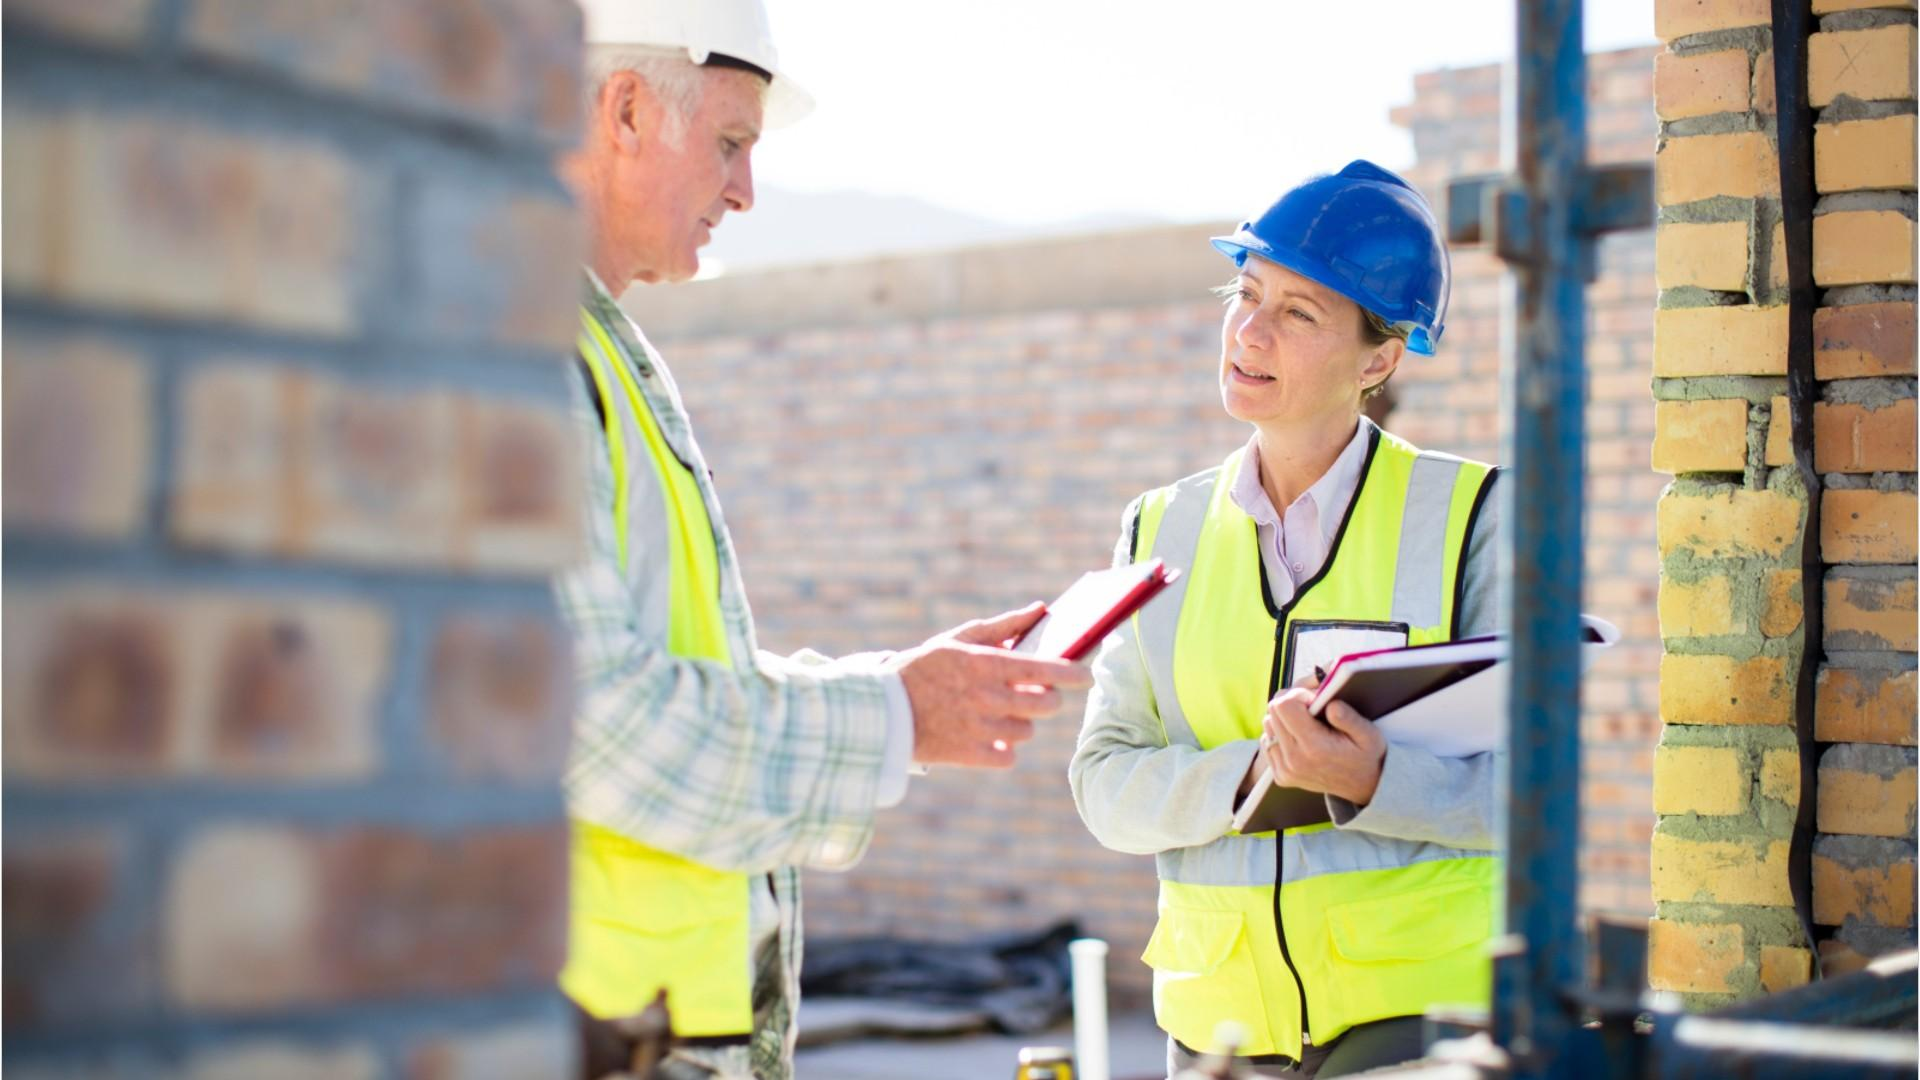helmet: (1207, 160, 1457, 364), (582, 1, 818, 132)
